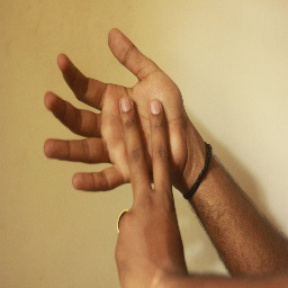N: (32, 20, 204, 232)
